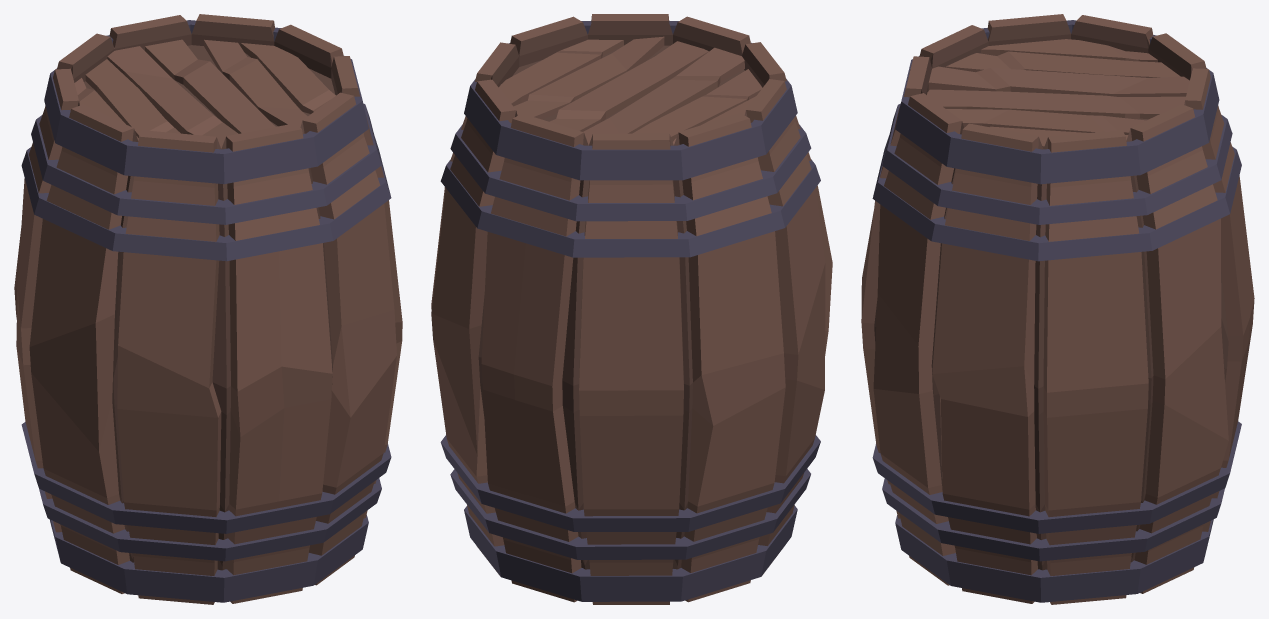
The model's file is Dungeon_Barrel.glb.
The picture shows the model from 3 angles, left to right: view 1: azimuth 30°, elevation 25°; view 2: azimuth 150°, elevation 25°; view 3: azimuth 270°, elevation 25°; orthographic projection.
Visible parts, largest first — view 1: Barrel; view 2: Barrel; view 3: Barrel.
Part boxes in pixels (left/top/right/bottom): Barrel: left=14, top=14, right=402, bottom=604; Barrel: left=431, top=14, right=832, bottom=604; Barrel: left=861, top=14, right=1254, bottom=604.
Bounding box in the file's own units: 1.04 × 1.35 × 1.03.
